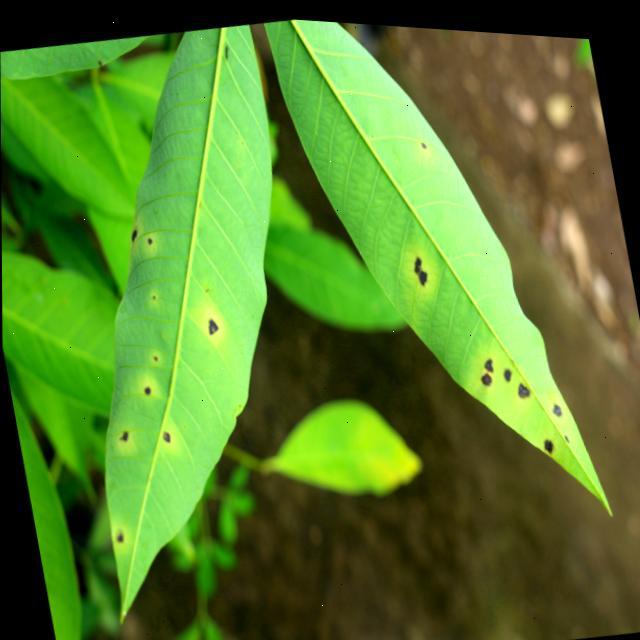Colletotrichum: (515, 373, 530, 392), (416, 262, 428, 280), (206, 315, 218, 332), (412, 250, 423, 268), (479, 365, 492, 380), (543, 431, 553, 446), (483, 351, 493, 366), (552, 395, 562, 409), (502, 361, 512, 374), (129, 227, 138, 241), (161, 429, 171, 440), (143, 384, 150, 392), (147, 235, 152, 242)
